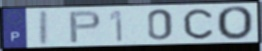0: (146, 8, 175, 43)
1: (108, 8, 124, 43)
C: (181, 7, 215, 40)
I: (37, 9, 51, 47)
O: (215, 5, 255, 42)
P: (68, 10, 103, 44)
